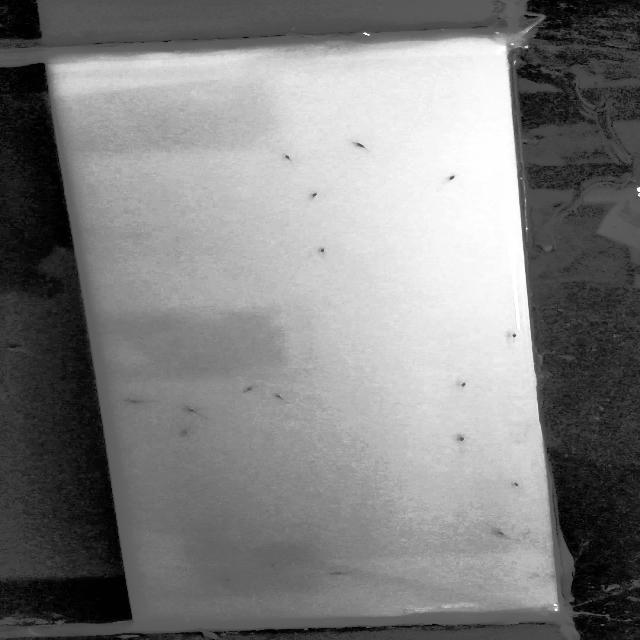shrimp: (422, 164, 475, 190), (335, 133, 384, 158), (265, 147, 309, 170), (297, 237, 336, 261), (478, 524, 520, 544), (213, 570, 244, 593), (495, 475, 531, 494), (446, 376, 477, 398), (265, 386, 295, 408), (173, 404, 220, 418), (227, 379, 261, 398), (318, 568, 362, 582), (448, 431, 477, 451), (494, 327, 527, 344), (169, 425, 200, 442), (298, 186, 325, 205), (122, 391, 146, 412), (261, 558, 284, 574)
